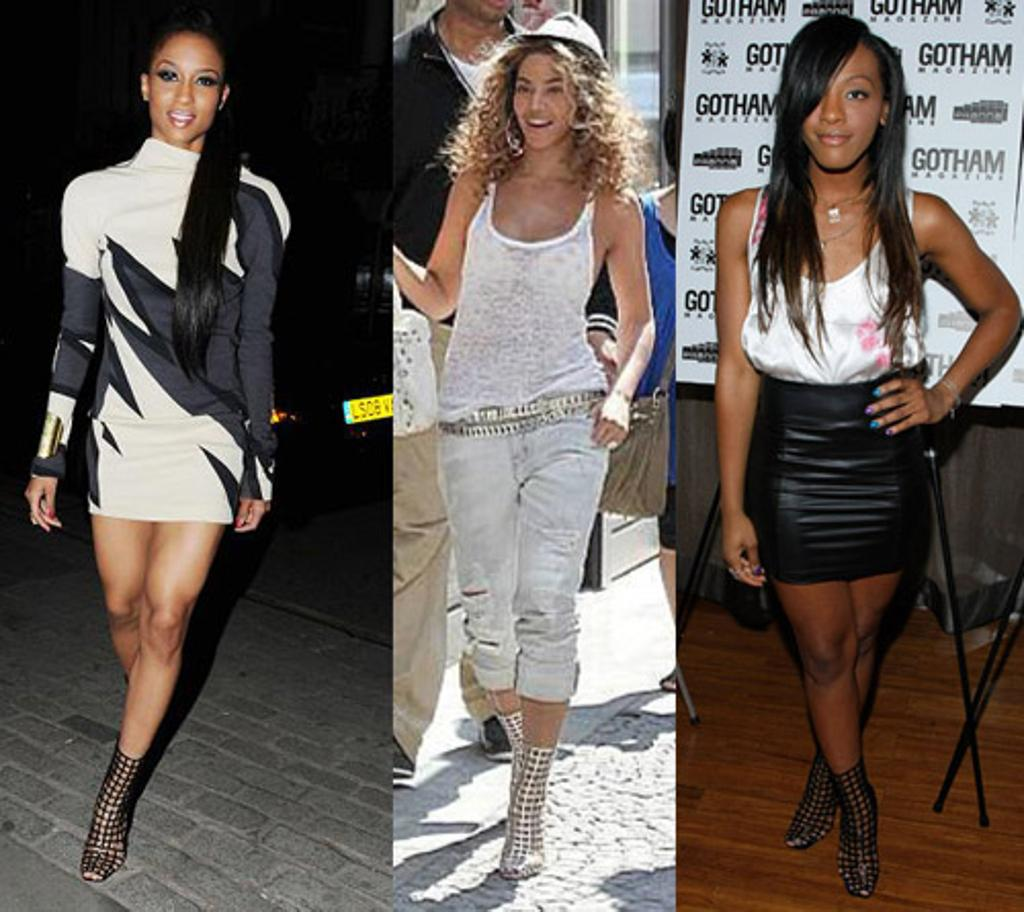face: (800, 44, 882, 170), (148, 38, 222, 144), (514, 56, 580, 148)
